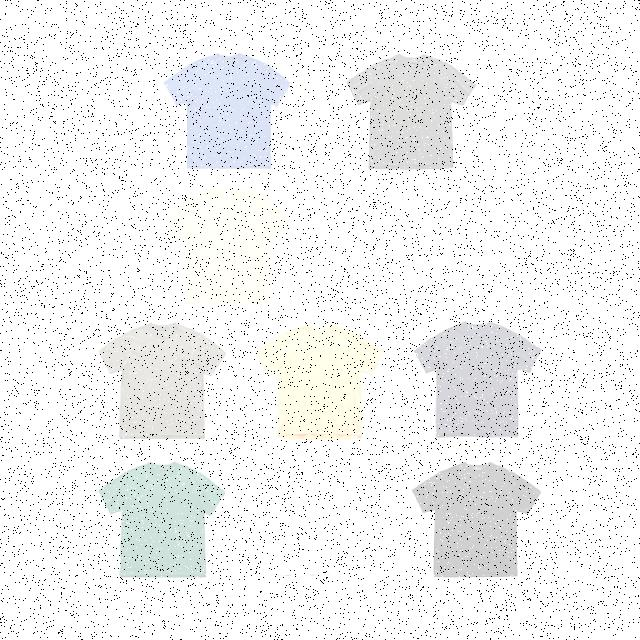dress: (415, 311, 541, 437), (348, 49, 468, 180), (252, 315, 370, 435), (176, 190, 297, 307), (352, 186, 475, 300), (416, 458, 530, 580), (172, 48, 289, 164), (260, 468, 371, 584), (111, 465, 228, 573), (108, 328, 219, 436)
